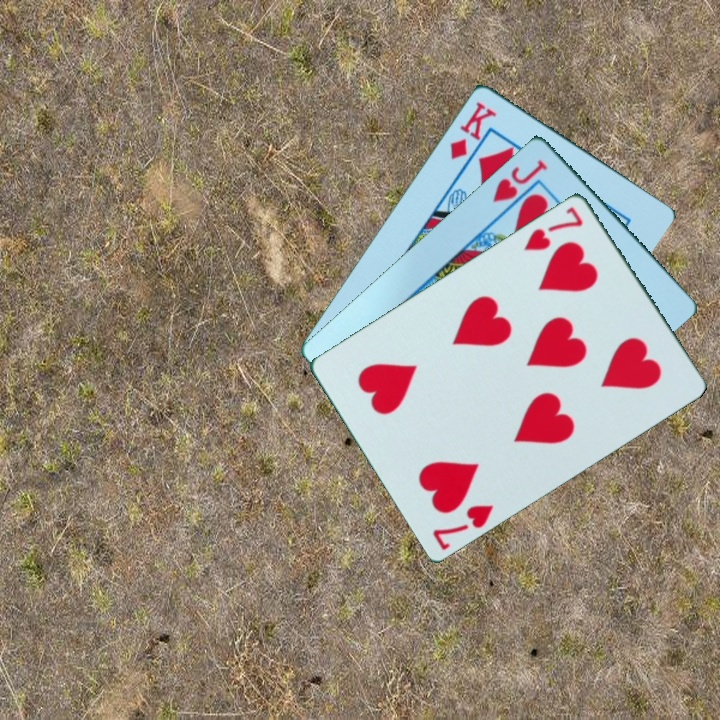7h: (428, 500, 498, 553), (520, 202, 587, 254)
Jh: (489, 155, 551, 205)
Kd: (446, 97, 500, 162)
